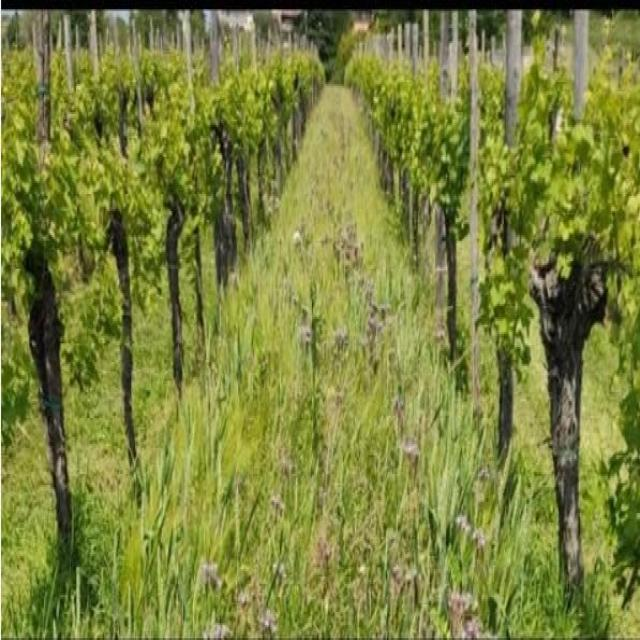row: (41, 84, 566, 640)
